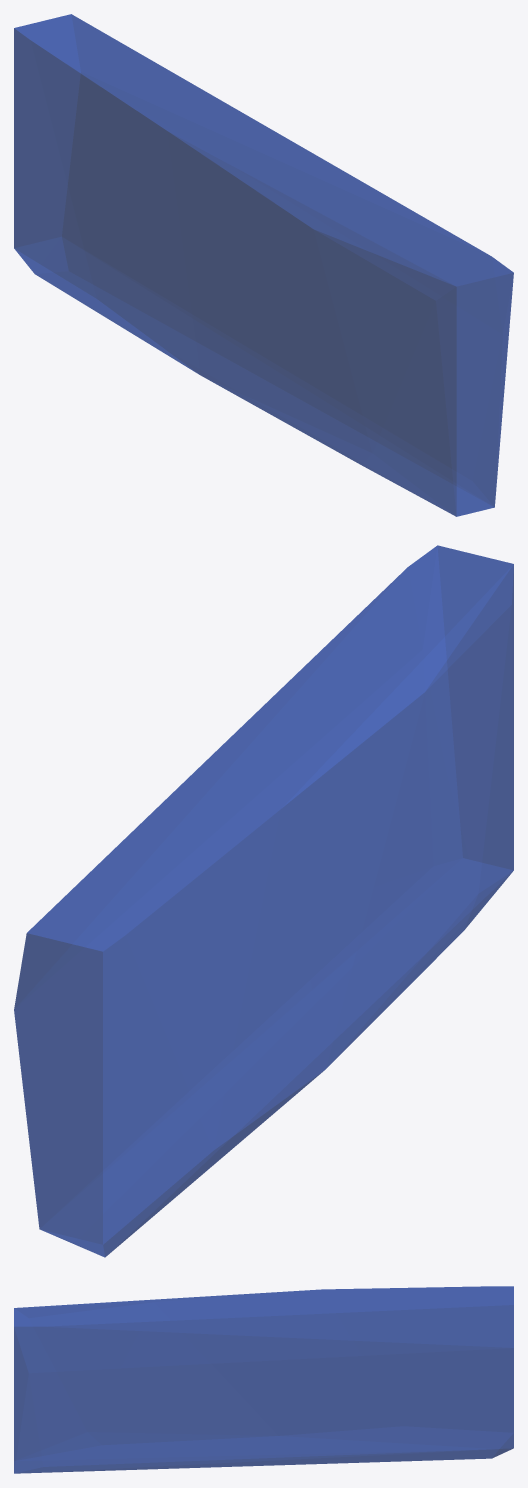
3 renders of one model, top to bottom at view 1: azimuth 30°, elevation 25°; view 2: azimuth 150°, elevation 25°; view 3: azimuth 270°, elevation 25°, orthographic. The views are drawn at different scales.
Parts seen in each view (by area): view 1: Shape_IndexedFaceSet.019_Shape_IndexedFaceSet.10729; view 2: Shape_IndexedFaceSet.019_Shape_IndexedFaceSet.10729; view 3: Shape_IndexedFaceSet.019_Shape_IndexedFaceSet.10729.
Boxes of the visible parts, <box> form: Shape_IndexedFaceSet.019_Shape_IndexedFaceSet.10729: <box>14,14,513,516</box>; Shape_IndexedFaceSet.019_Shape_IndexedFaceSet.10729: <box>14,545,513,1257</box>; Shape_IndexedFaceSet.019_Shape_IndexedFaceSet.10729: <box>14,1286,513,1473</box>.
Size of the model in its own units: 0.0429 by 0.0793 by 0.2246.
